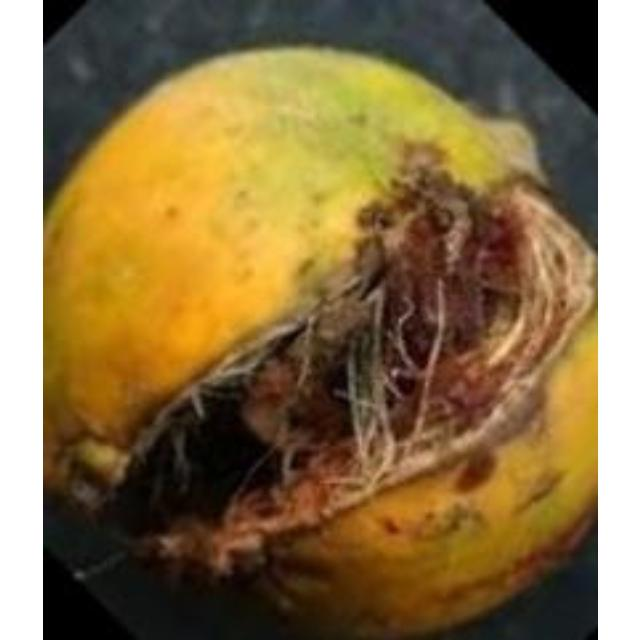damaged: (42, 50, 594, 637)
